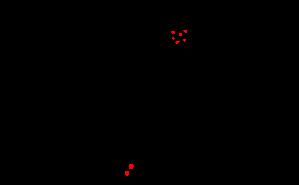Target: (129, 164, 134, 169), (125, 171, 129, 176), (175, 41, 180, 44), (183, 30, 187, 33), (171, 31, 175, 34), (179, 33, 182, 36), (172, 37, 175, 40), (183, 39, 186, 42)
